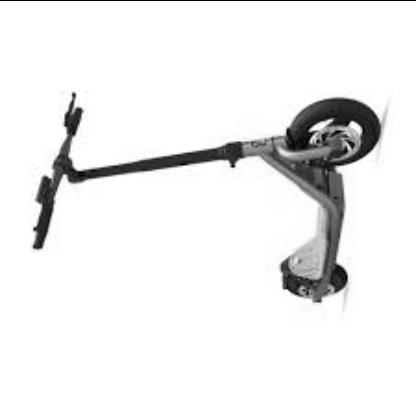bike: (26, 89, 388, 304)
